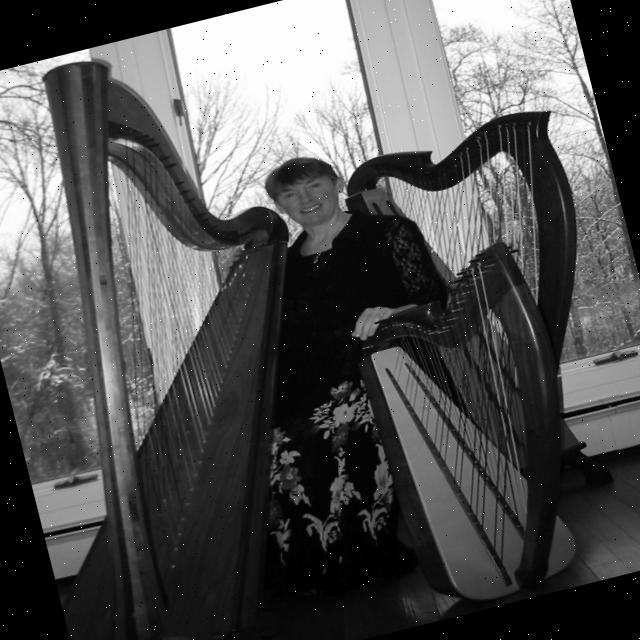harp: (0, 14, 385, 640), (311, 98, 640, 619)
